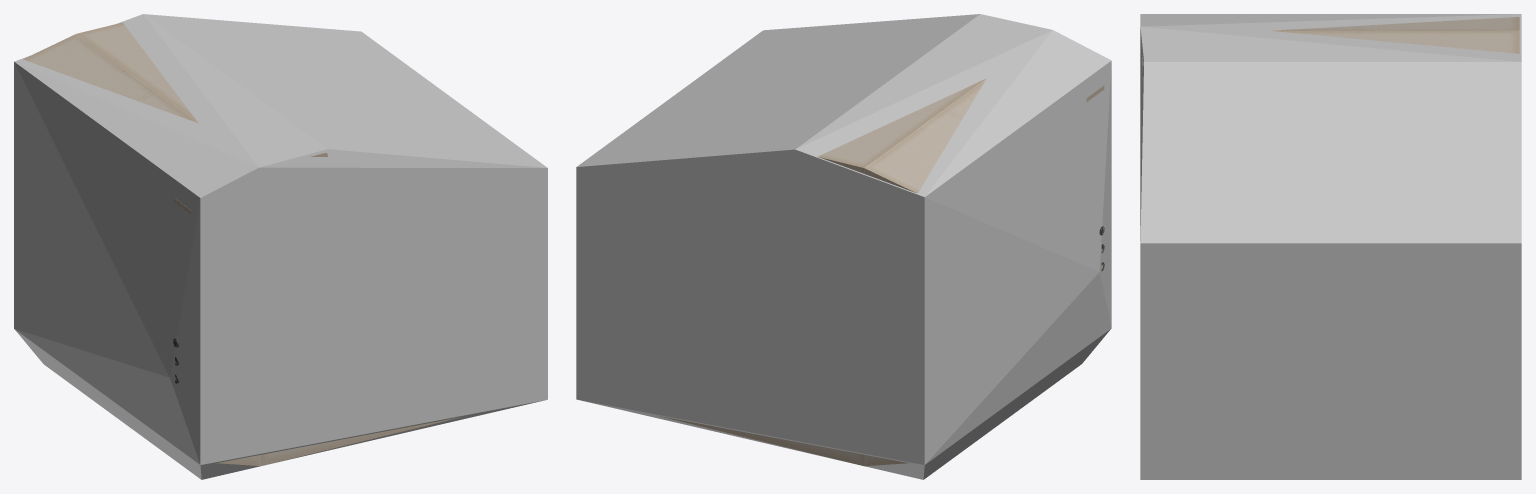
The model's file is SM_Computer_01g.fbx.
The picture shows the model from 3 angles, left to right: view 1: azimuth 30°, elevation 25°; view 2: azimuth 150°, elevation 25°; view 3: azimuth 270°, elevation 25°; orthographic projection. The views are drawn at different scales.
Visible parts, largest first — view 1: SM_Computer_01g_ConvexHulls, SM_Computer_01g; view 2: SM_Computer_01g_ConvexHulls, SM_Computer_01g; view 3: SM_Computer_01g_ConvexHulls, SM_Computer_01g.
Boxes of the visible parts, box(x1,y1,x2,y2) form: SM_Computer_01g_ConvexHulls: box(14, 14, 547, 479); SM_Computer_01g: box(23, 22, 461, 466); SM_Computer_01g_ConvexHulls: box(576, 14, 1111, 479); SM_Computer_01g: box(657, 78, 1104, 466); SM_Computer_01g_ConvexHulls: box(1140, 14, 1521, 479); SM_Computer_01g: box(1142, 17, 1519, 67).
Bounding box in the file's own units: 55.36 × 50.11 × 46.29.
2 materials, 1 textured.
